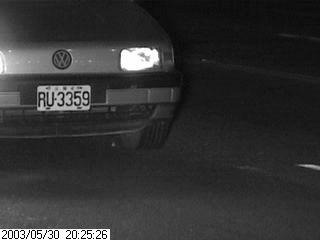plate: (35, 84, 92, 113)
